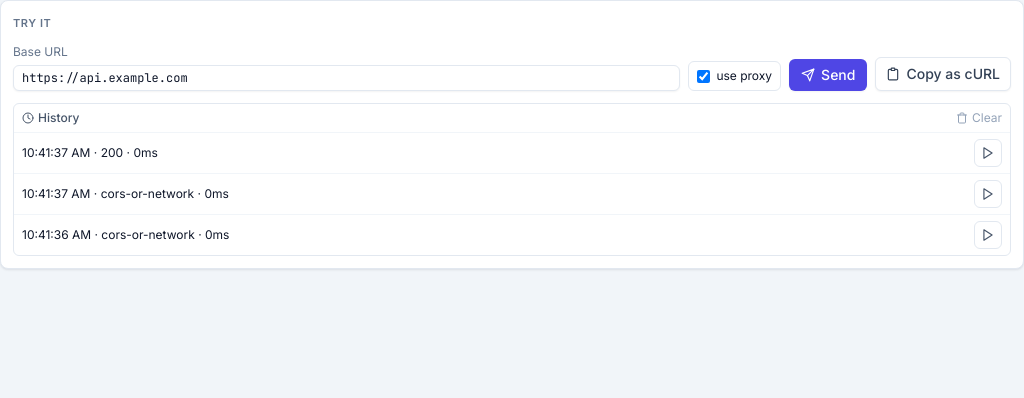
Test: cors-or-network error with useProxy already on does NOT render the retry button
The width and height of the screenshot is (1024, 398).
Click the button "Send" at coordinates (828, 75), box [789,59,867,91]
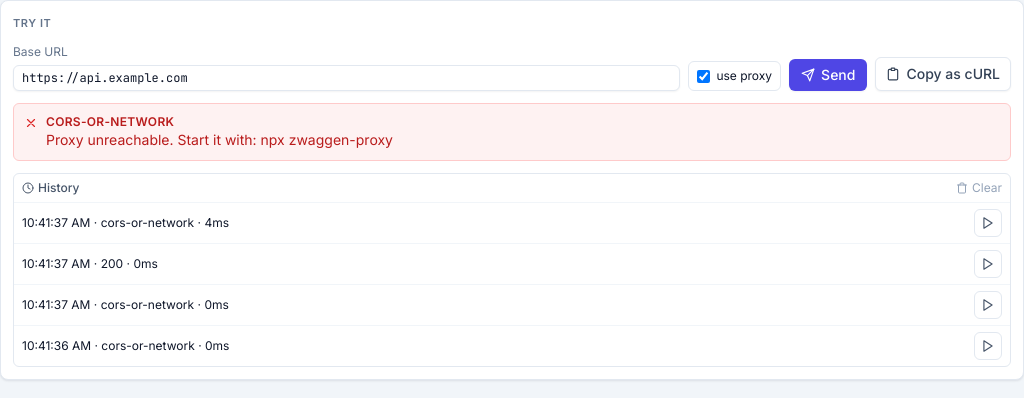
expect the message "cors-or-network Proxy unreachable. Start it with: npx zwaggen-proxy" is shown: met, box [13,103,1011,161]
